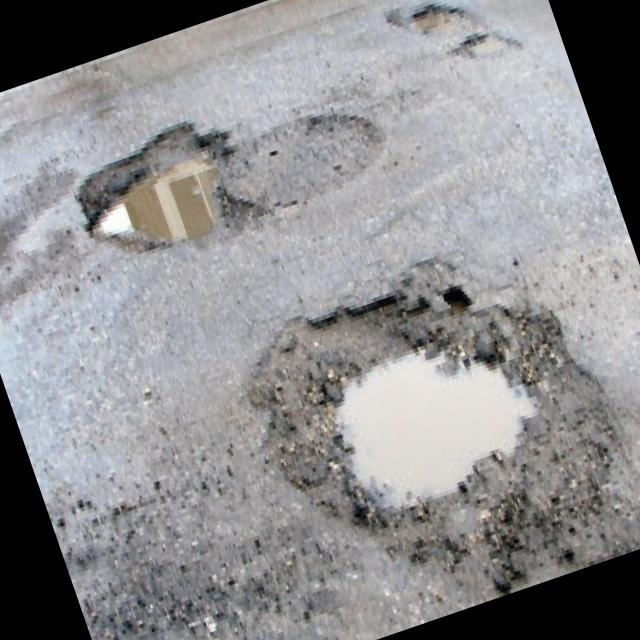Potholes: (226, 232, 640, 622), (34, 33, 384, 312), (391, 0, 547, 105)
